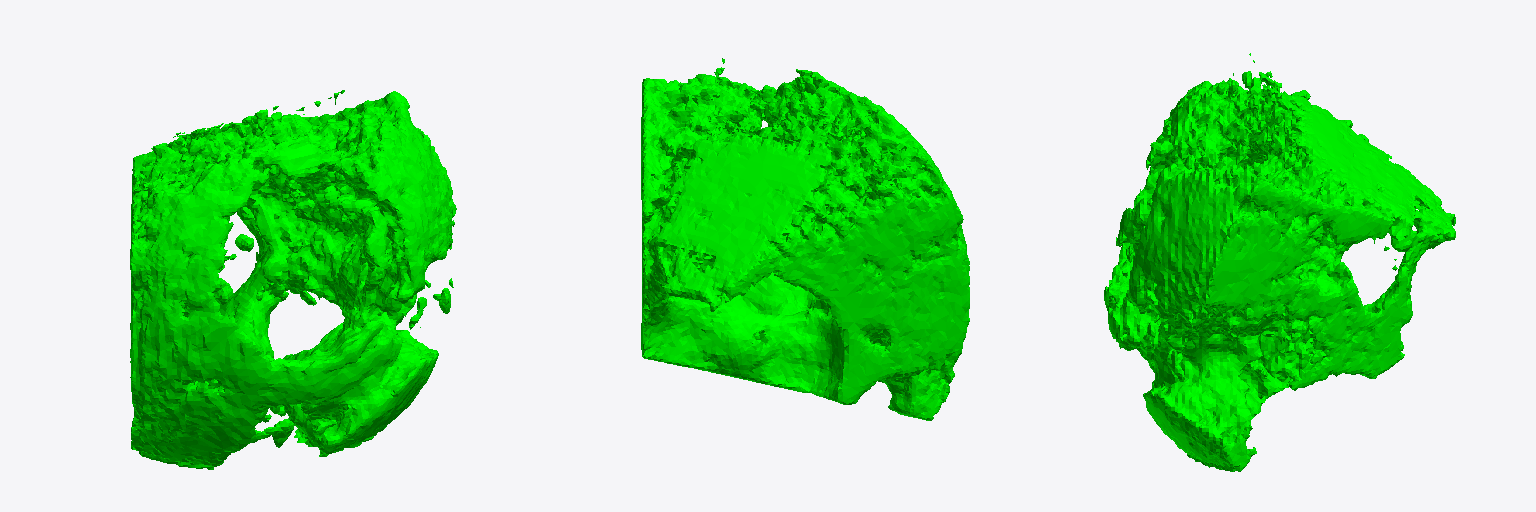
File: B939XXXX-1_base_19.obj
3 views of the same model, side by side, from view 1: azimuth 30°, elevation 25°; view 2: azimuth 150°, elevation 25°; view 3: azimuth 270°, elevation 25° (orthographic).
Parts seen in each view (by area): view 1: 19_base; view 2: 19_base; view 3: 19_base.
Part boxes in pixels (x1,y1,x2,y2): 19_base: (130,90,456,469); 19_base: (641,58,969,420); 19_base: (1104,53,1455,471).
Size of the model in its own units: 219 by 217 by 204.